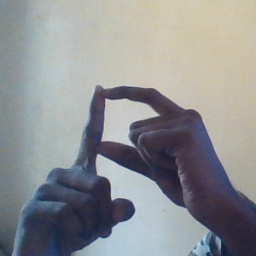D: (60, 77, 193, 194)
